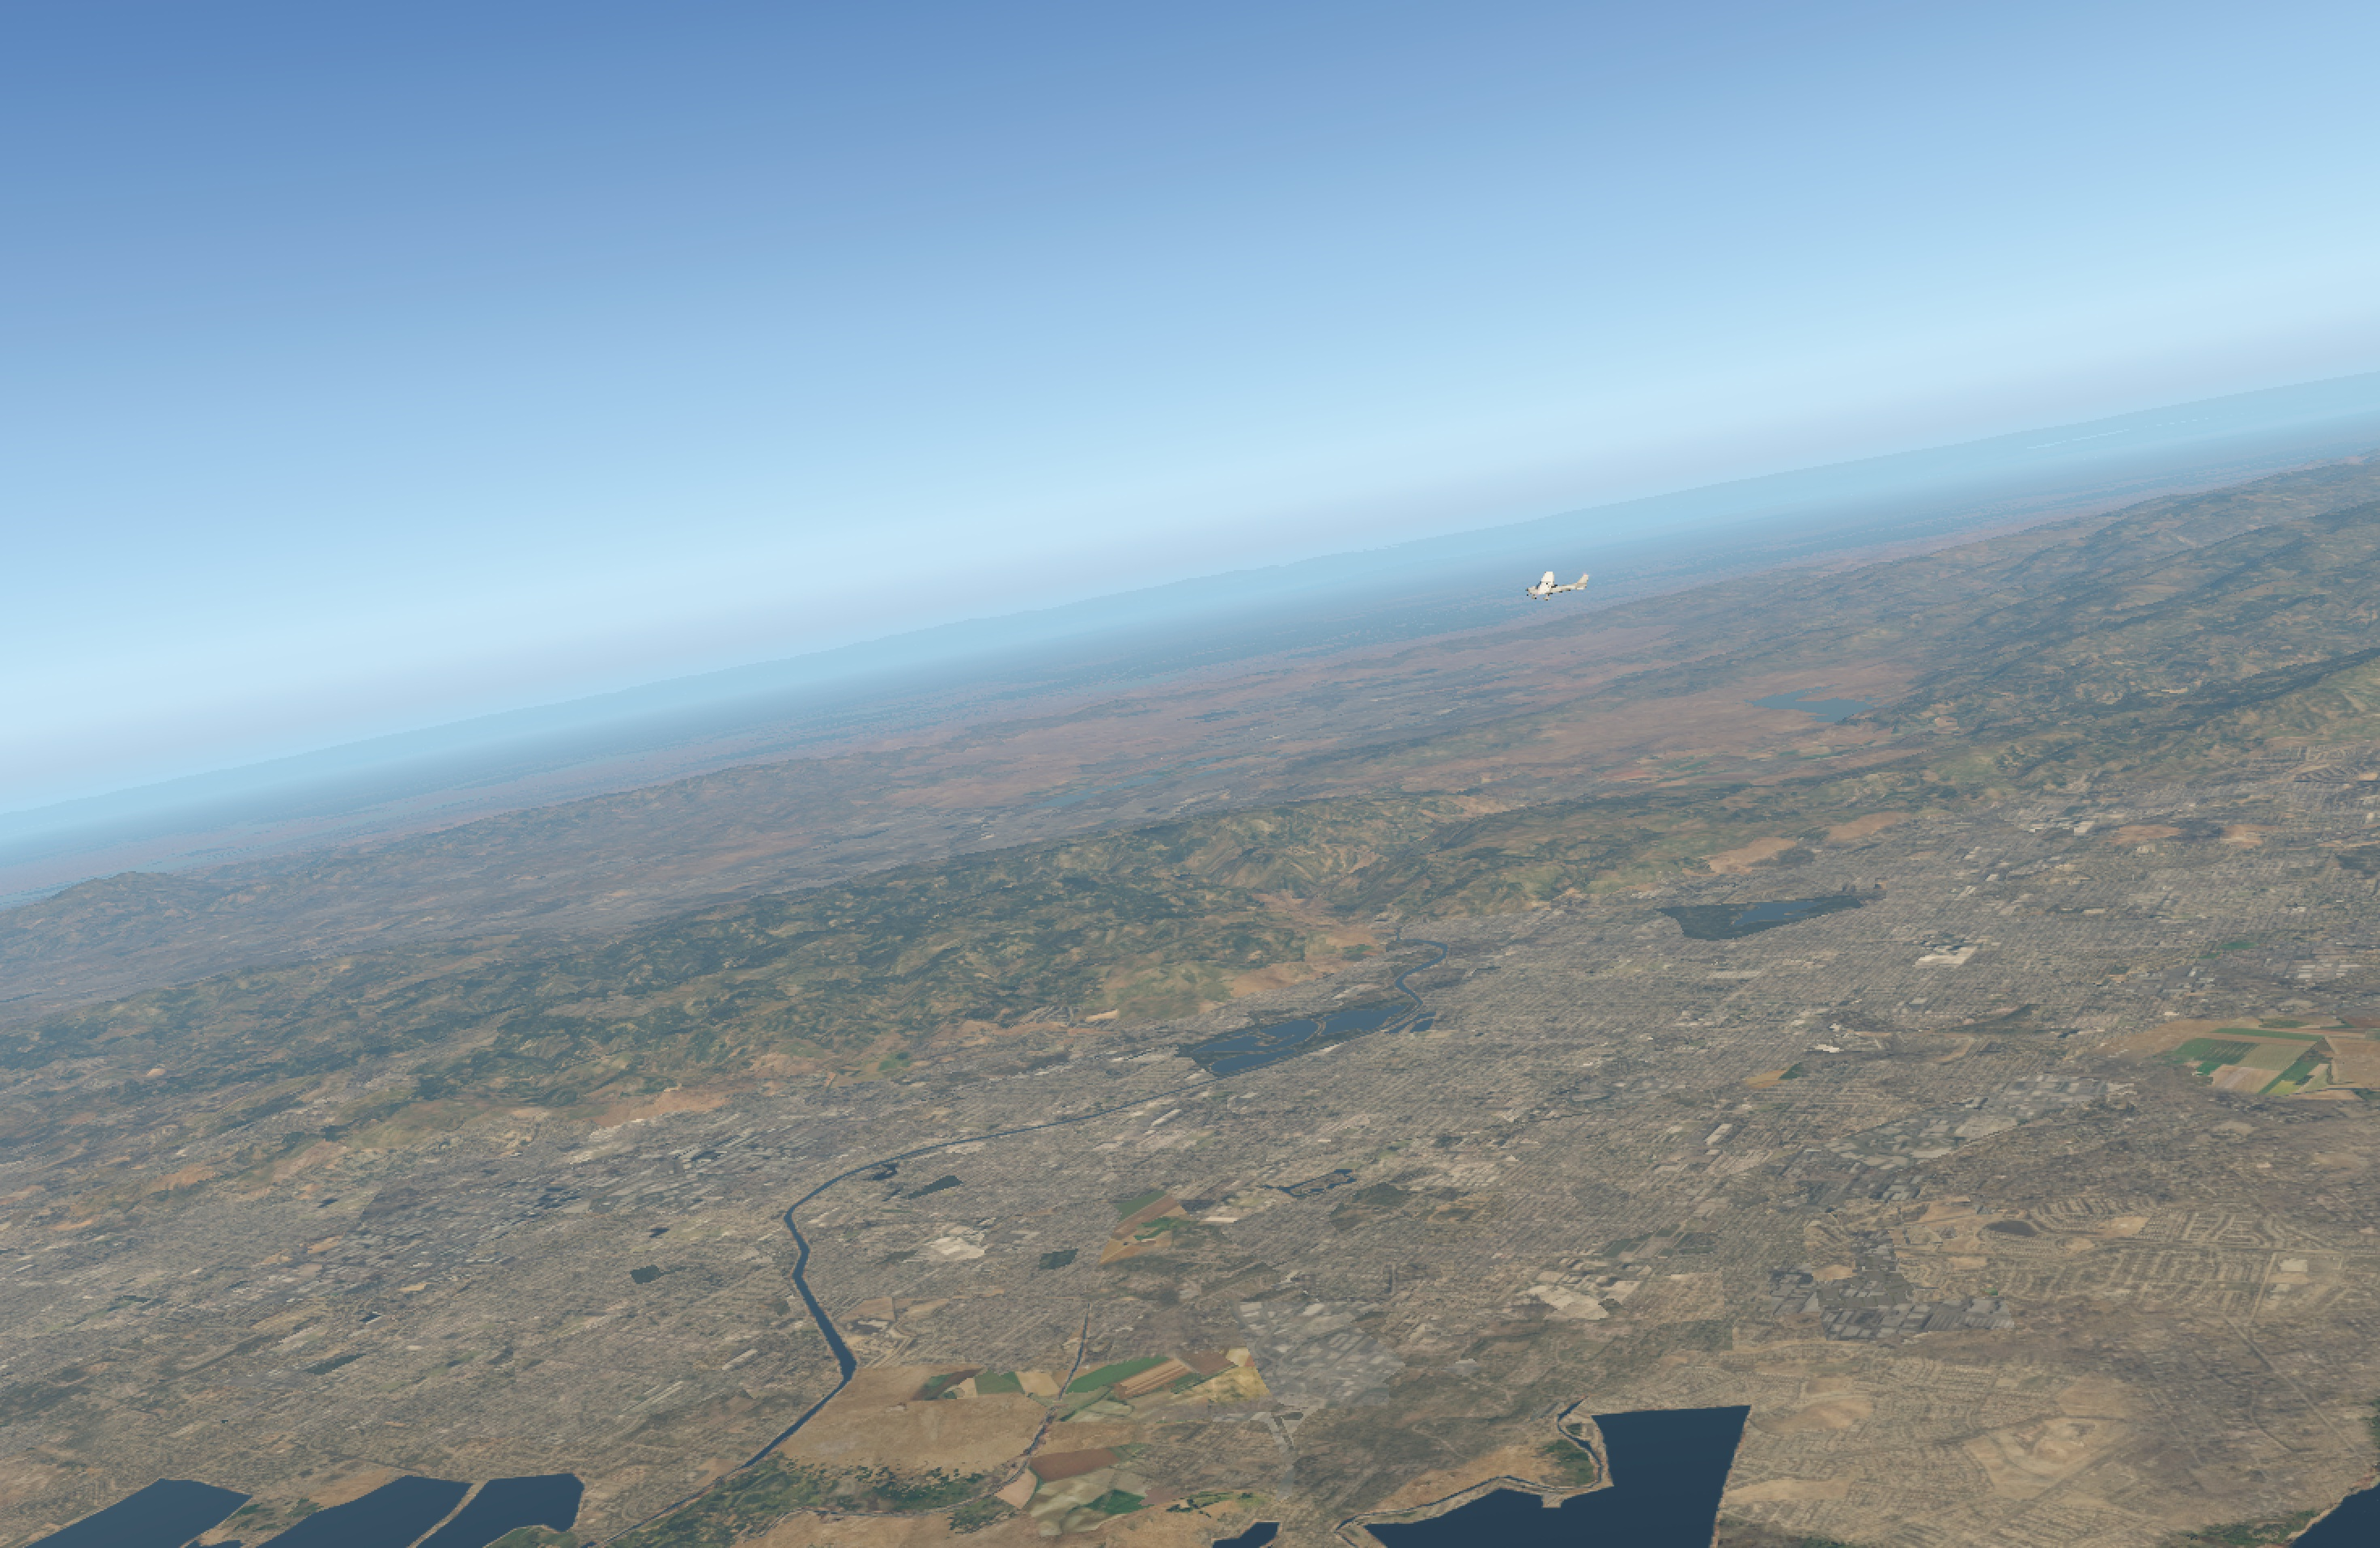aircraft: (1513, 576, 1573, 600)
